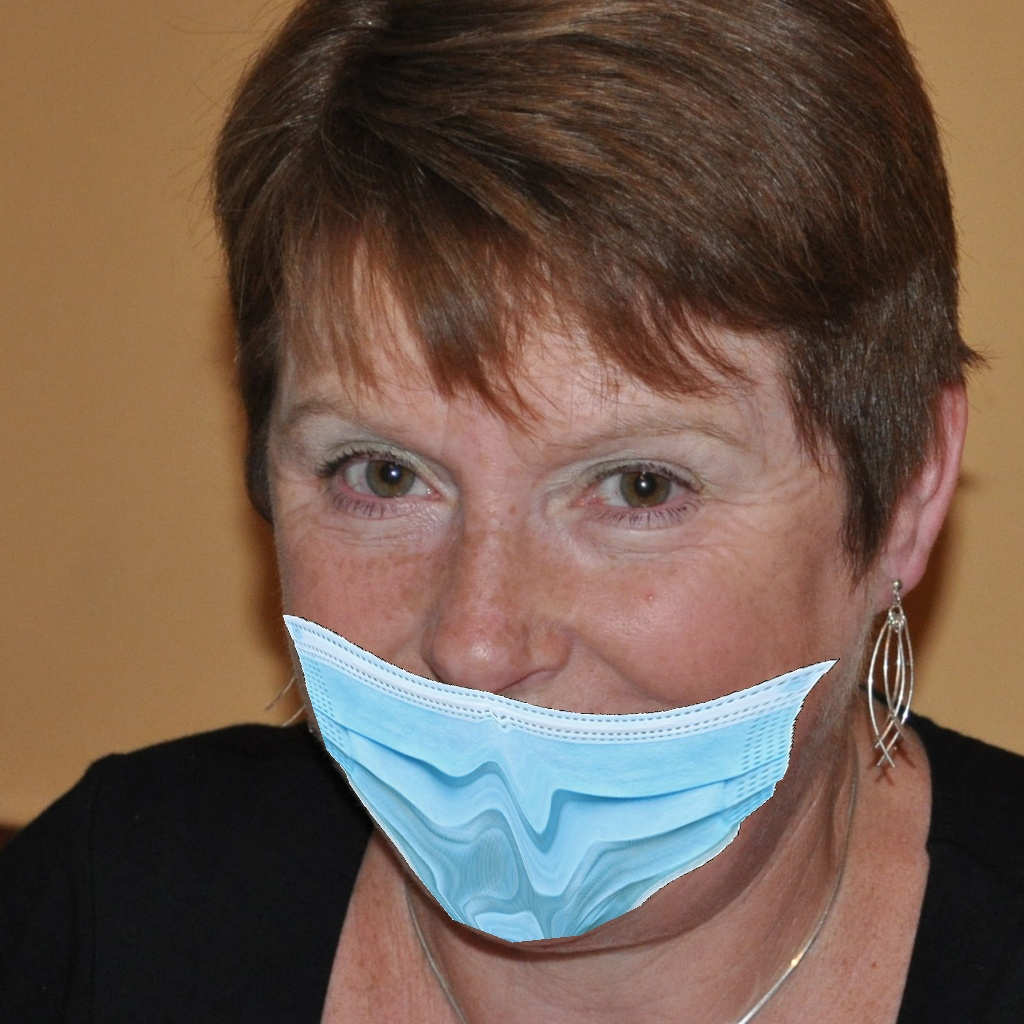mascarilla_mal_puesta: (264, 528, 904, 980)
